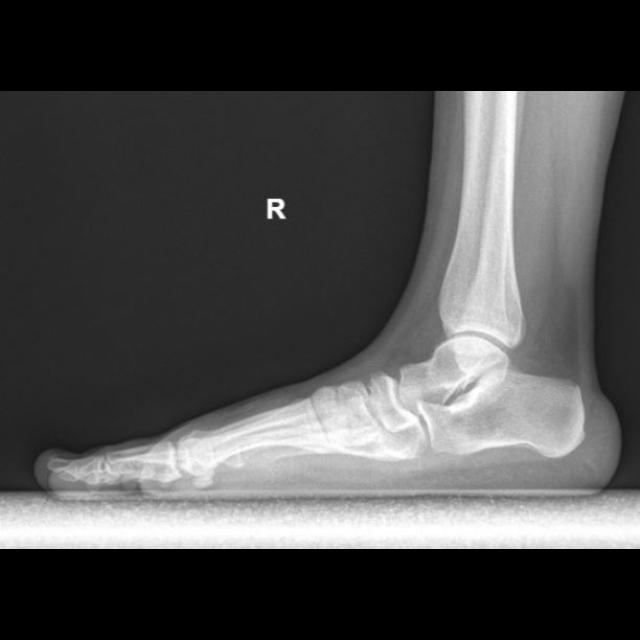a: (419, 369, 585, 458)
b: (371, 373, 418, 433)
c: (179, 397, 331, 475)
